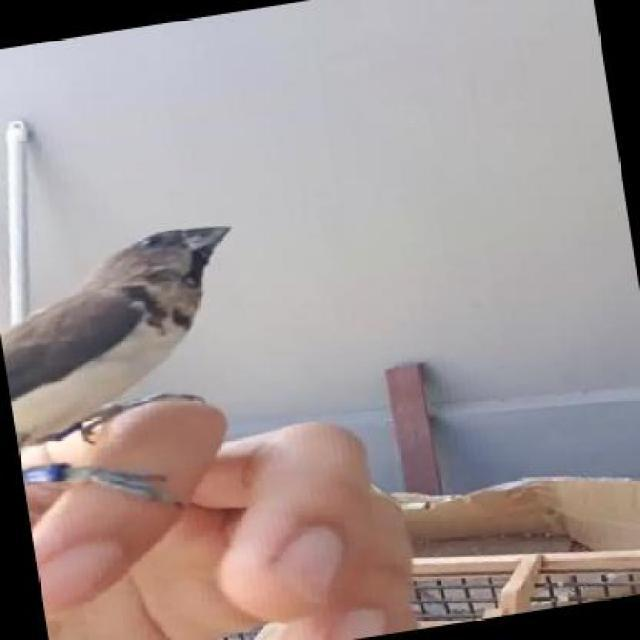Bird: (0, 210, 284, 448)
